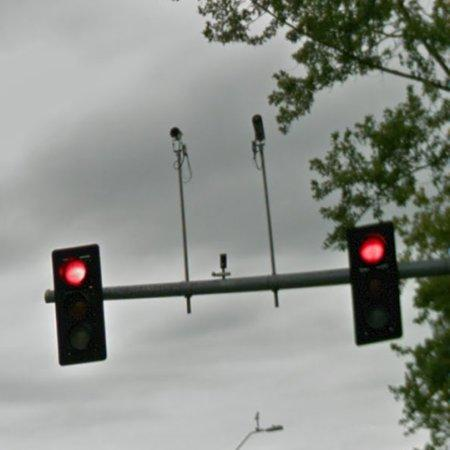traffic lights: (346, 220, 404, 346), (51, 245, 108, 368)
